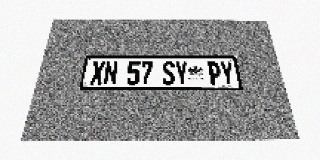5: (126, 61, 140, 85)
7: (140, 61, 153, 85)
N: (103, 61, 118, 85)
P: (207, 61, 222, 85)
S: (162, 61, 175, 85)
X: (89, 61, 105, 85)
Y: (219, 62, 235, 85), (175, 61, 188, 85)
